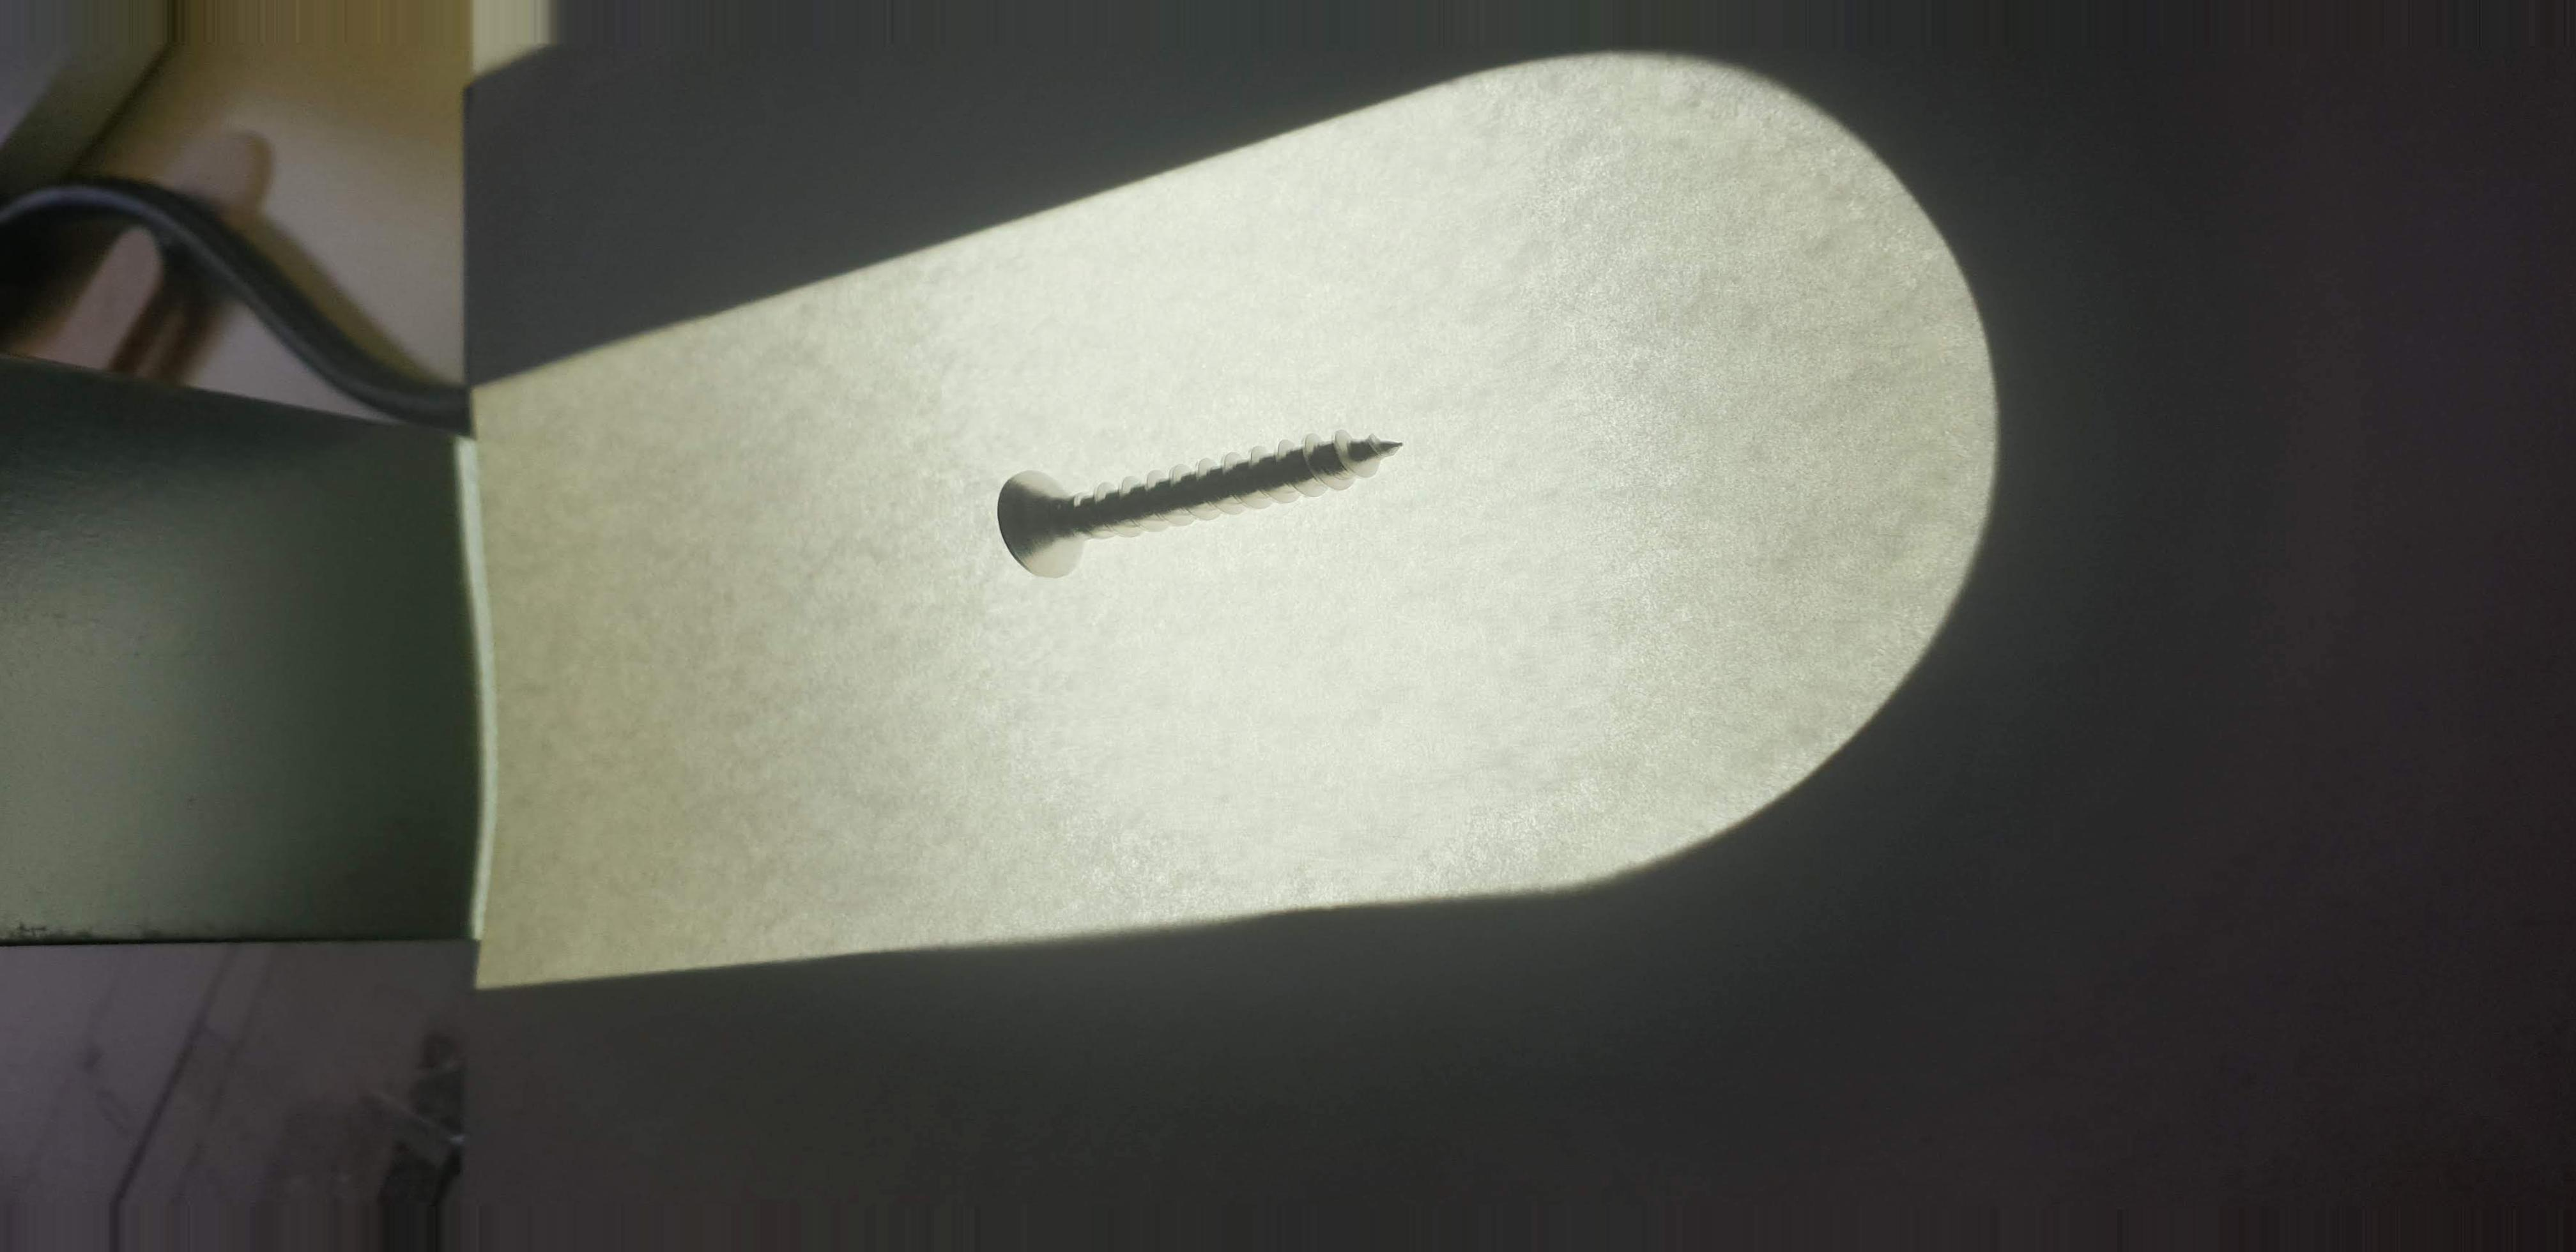S004: (959, 411, 1456, 596)
